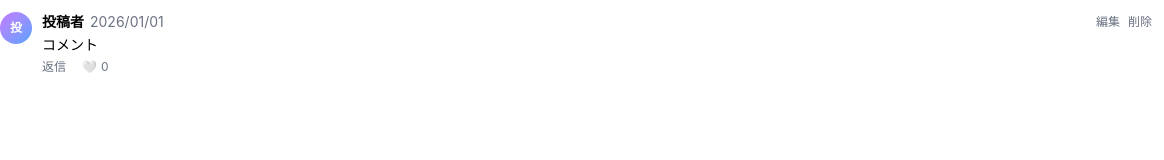
Test: CommentThread › 削除に失敗するとエラーを表示する
This screenshot has width=1164, height=160.
What coordinates should you click on to do the following:
click the button "削除"
I would click on:
 (1140, 22)
Its box is [1128,14,1152,30].
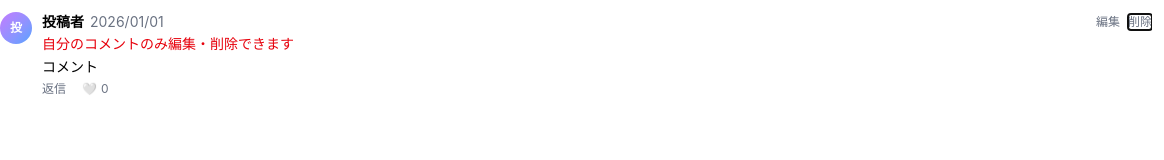
Expected: the text "自分のコメントのみ編集・削除できます" is shown, [42,35,294,52]
